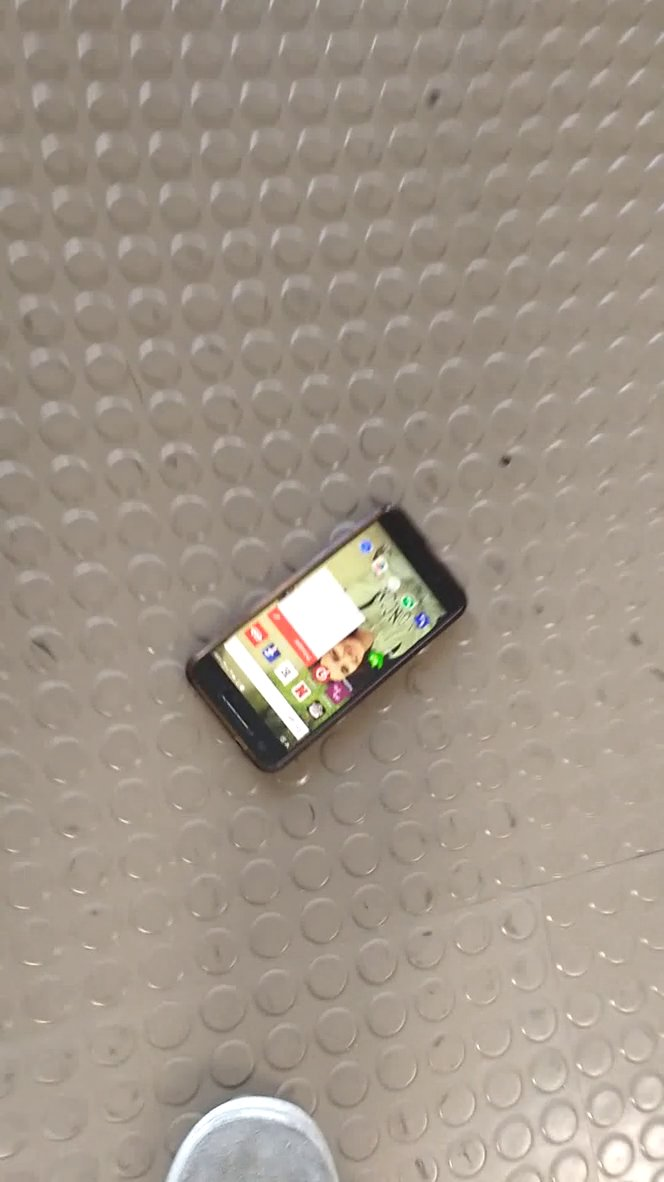phone: (177, 491, 494, 792)
